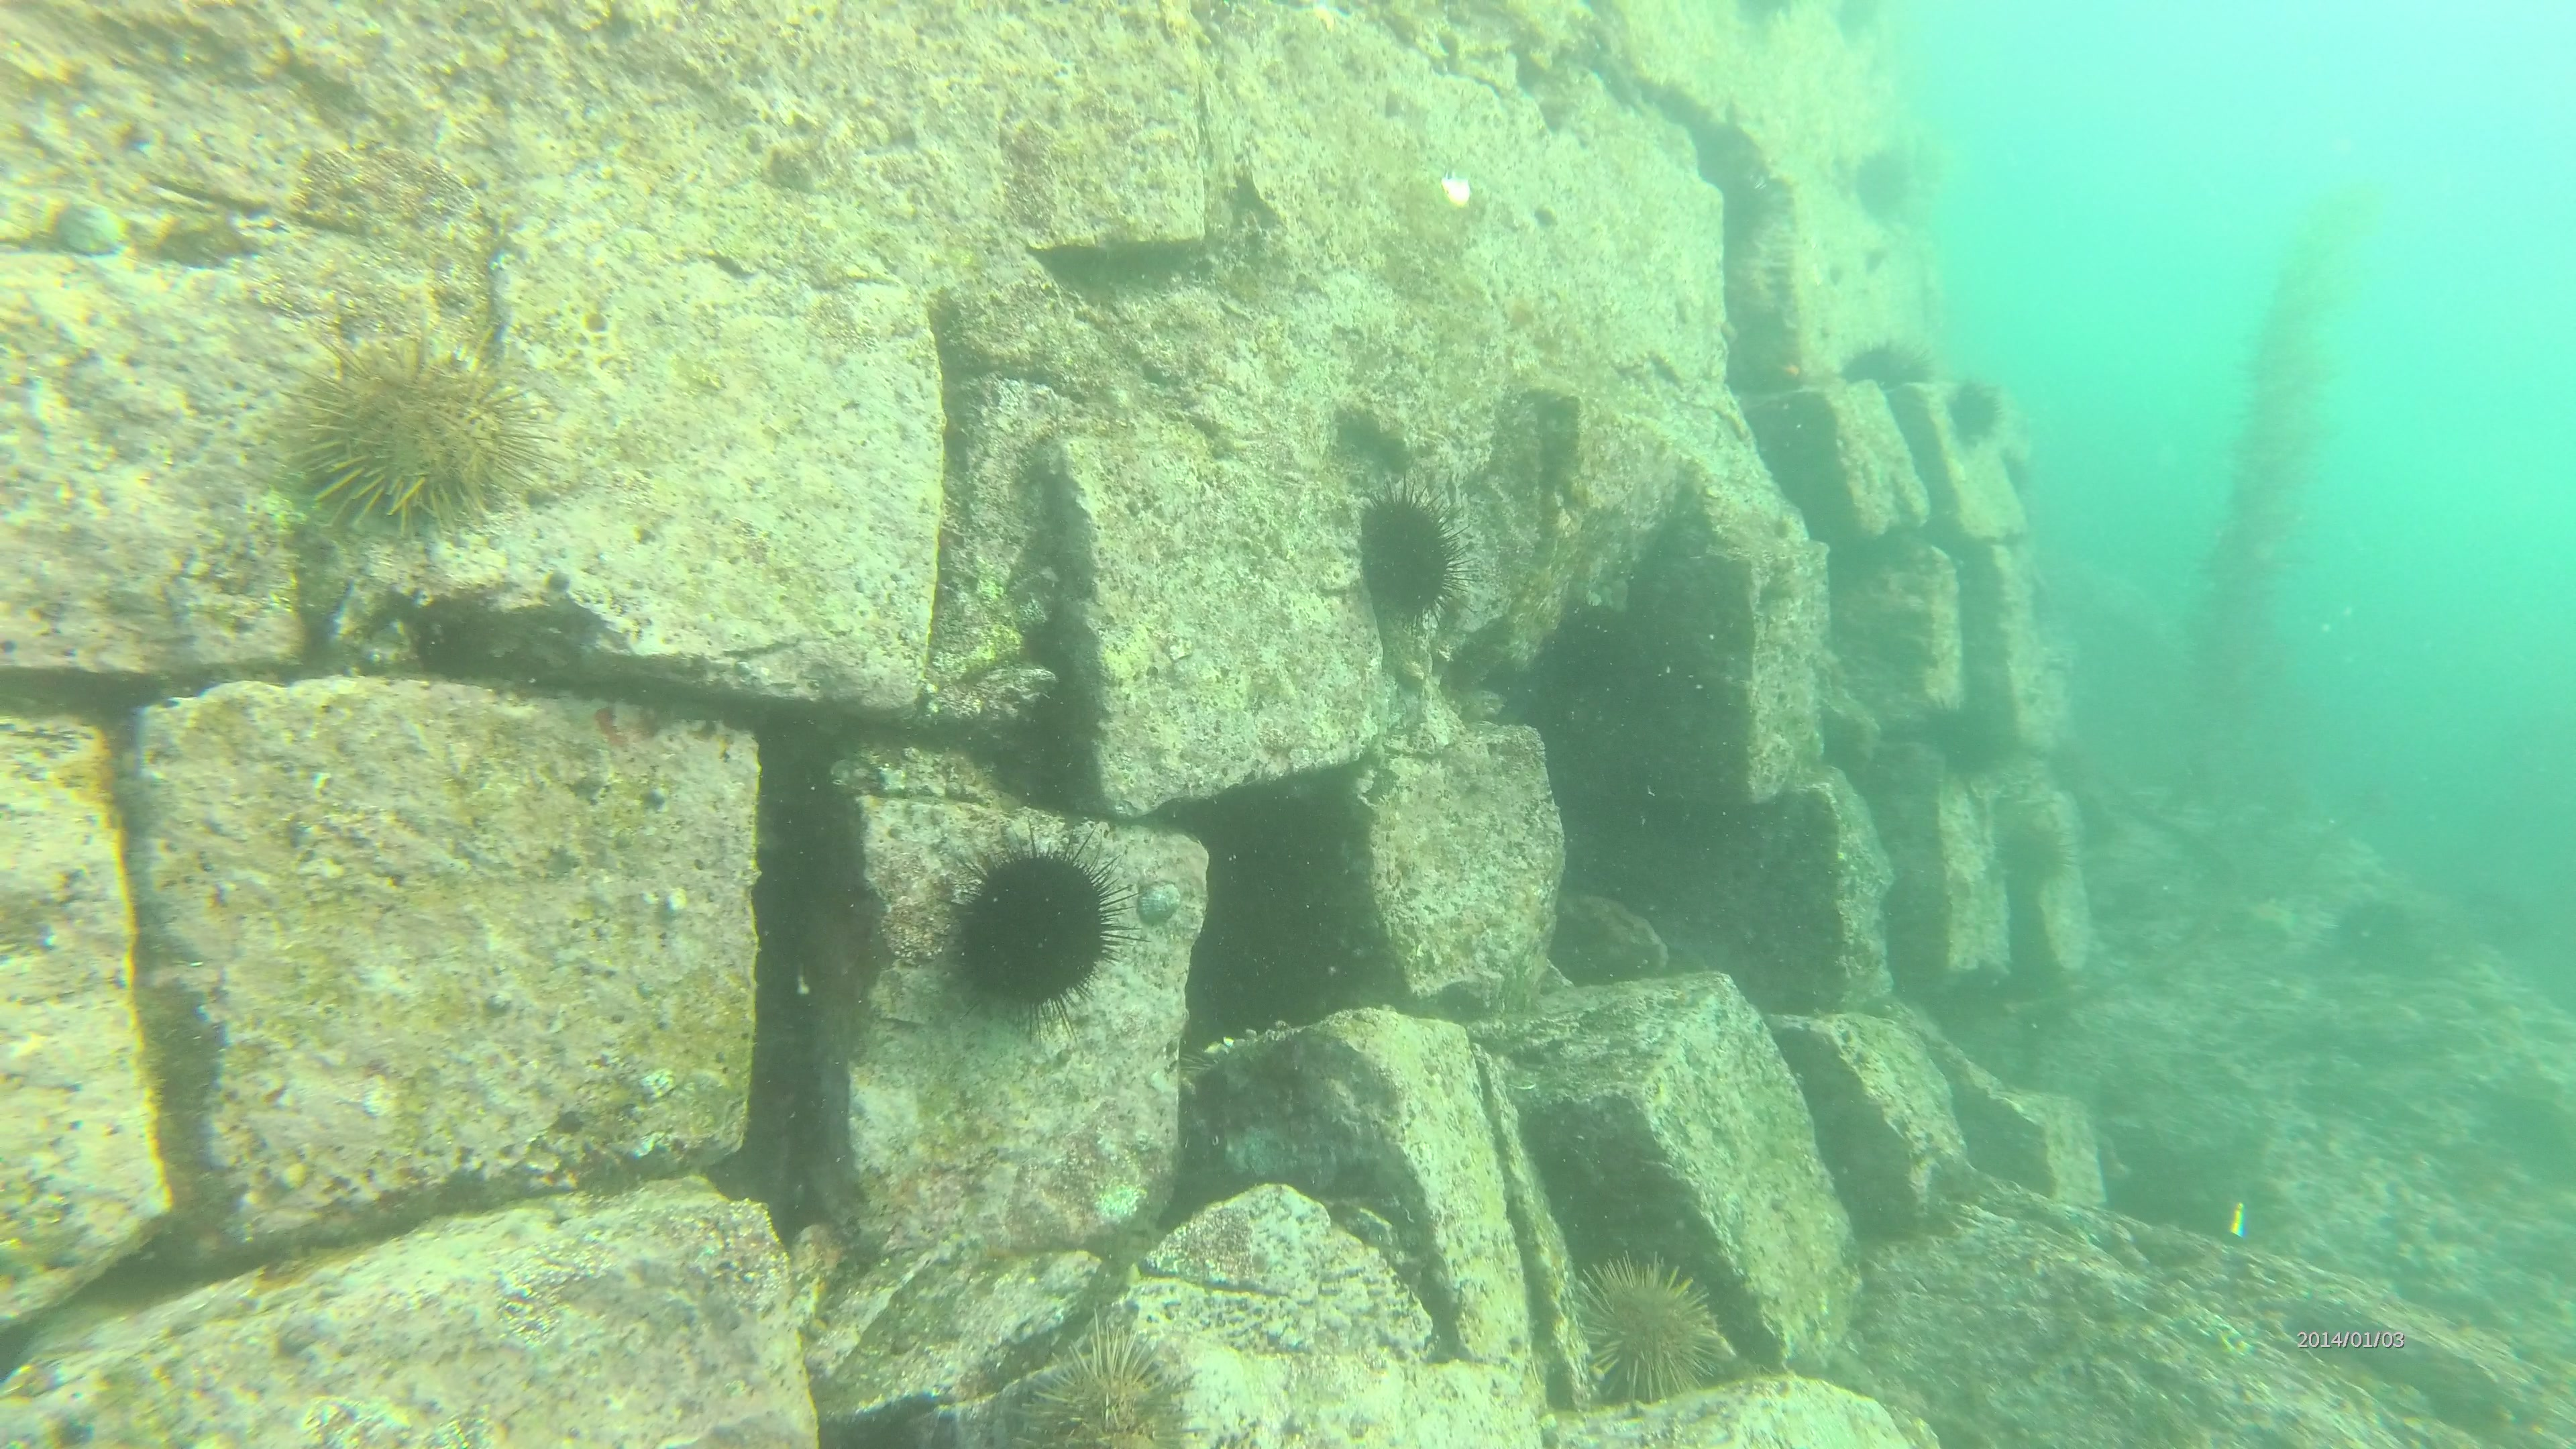echinus: (278, 331, 570, 540), (916, 816, 1146, 1042), (1012, 1306, 1207, 1449), (1346, 469, 1490, 658), (1568, 1240, 1725, 1407), (1992, 816, 2082, 908), (1907, 699, 2005, 782), (2332, 895, 2422, 975), (1829, 338, 1946, 396), (1845, 142, 1918, 225), (1946, 366, 2001, 460)
